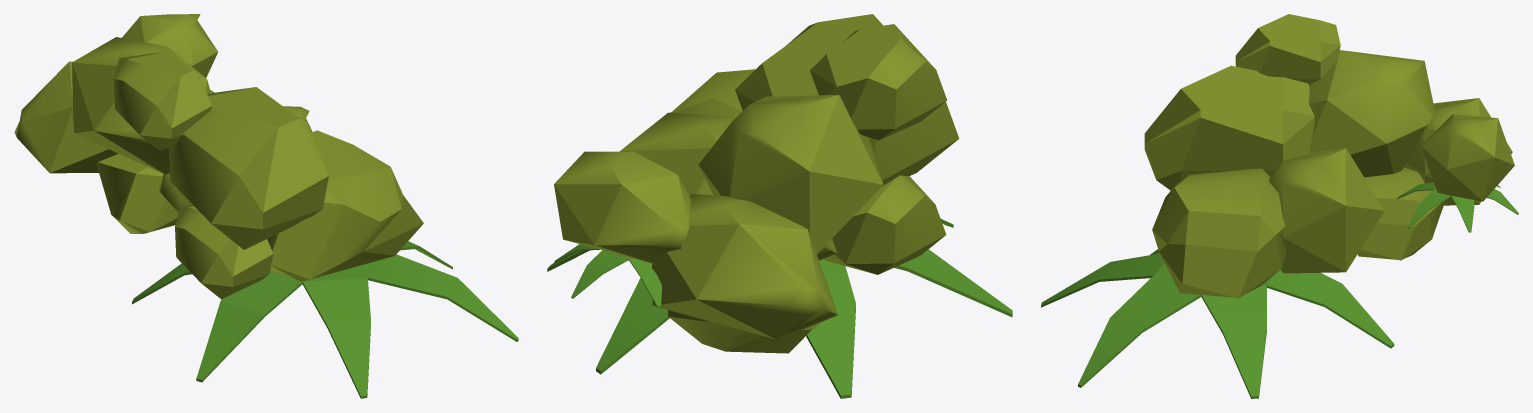
3 views of the same model, side by side, from view 1: azimuth 30°, elevation 25°; view 2: azimuth 150°, elevation 25°; view 3: azimuth 270°, elevation 25° (orthographic). The views are drawn at different scales.
Parts seen in each view (by area): view 1: pasted__pCube1 (×3), pasted__pPlatonic1 (×3), pasted__polySurface002, pCube1, pasted__pasted__pCube1, pPlatonic1; view 2: pasted__pPlatonic1 (×3), pasted__pCube1 (×3), pasted__polySurface002, pCube1, pPlatonic1, pasted__pasted__pCube1, pasted__polySurface1; view 3: pasted__pCube1 (×3), pasted__pPlatonic1 (×3), pasted__polySurface002, pPlatonic1, pasted__pasted__pCube1, pasted__polySurface1.
Part boxes in pixels (bbox=[...]): pasted__pCube1 (×3): bbox=[113, 51, 423, 281]; pasted__pPlatonic1 (×3): bbox=[14, 14, 217, 174]; pasted__polySurface002: bbox=[132, 241, 518, 398]; pCube1: bbox=[175, 204, 273, 299]; pasted__pasted__pCube1: bbox=[96, 153, 178, 233]; pPlatonic1: bbox=[158, 106, 312, 212]; pasted__pPlatonic1 (×3): bbox=[554, 95, 883, 339]; pasted__pCube1 (×3): bbox=[671, 14, 959, 185]; pasted__polySurface002: bbox=[547, 219, 1012, 398]; pCube1: bbox=[825, 175, 946, 274]; pPlatonic1: bbox=[620, 112, 837, 260]; pasted__pasted__pCube1: bbox=[668, 310, 822, 353]; pasted__polySurface1: bbox=[554, 244, 661, 307]; pasted__pCube1 (×3): bbox=[1144, 14, 1340, 298]; pasted__pPlatonic1 (×3): bbox=[1308, 50, 1514, 205]; pasted__polySurface002: bbox=[1041, 249, 1394, 398]; pPlatonic1: bbox=[1269, 148, 1384, 273]; pasted__pasted__pCube1: bbox=[1357, 167, 1444, 260]; pasted__polySurface1: bbox=[1397, 182, 1518, 232].
Size of the model in its own units: 2.38 by 1.83 by 3.18.
